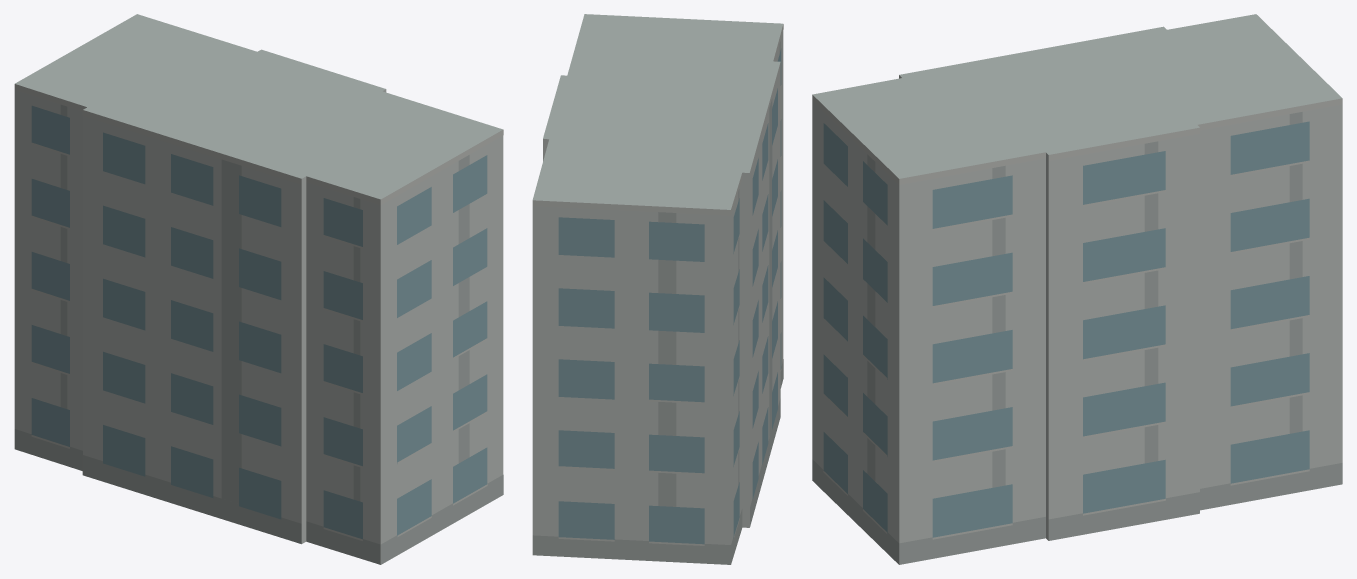
Rendered from survey-upis-32632928.glb.
3 renders of one model, left to right at view 1: azimuth 30°, elevation 25°; view 2: azimuth 150°, elevation 25°; view 3: azimuth 270°, elevation 25°, orthographic. The views are drawn at different scales.
Visible parts, largest first — view 1: survey-upis-32632928.tmp; view 2: survey-upis-32632928.tmp; view 3: survey-upis-32632928.tmp.
Part boxes in pixels (box(x1,y1,x2,y2)): survey-upis-32632928.tmp: box(14, 14, 503, 564); survey-upis-32632928.tmp: box(532, 14, 783, 564); survey-upis-32632928.tmp: box(812, 14, 1342, 564).
Size of the model in its own units: 13.98 by 15.25 by 19.
